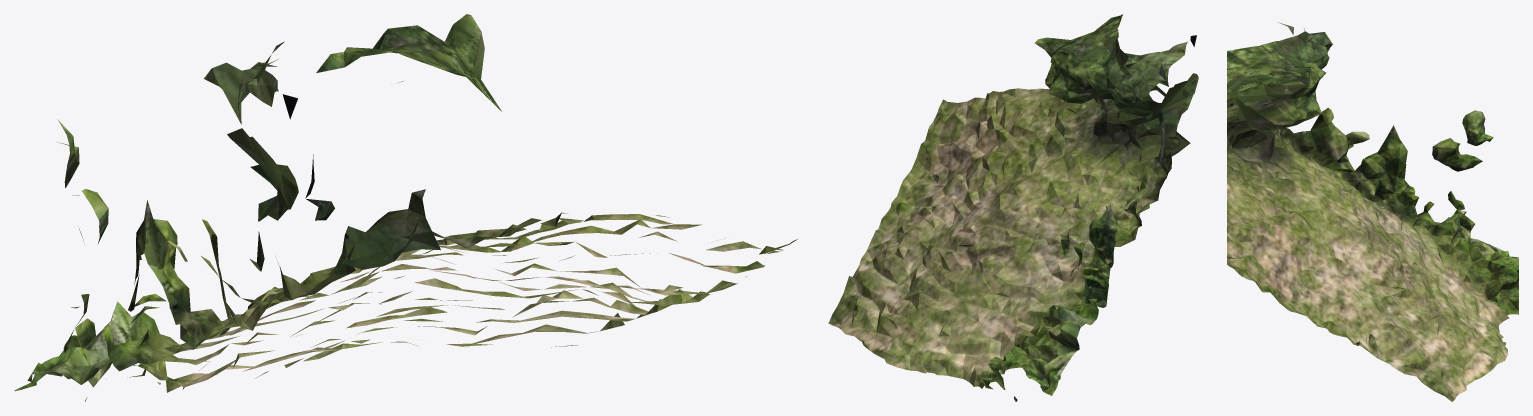
3 renders of one model, left to right at view 1: azimuth 30°, elevation 25°; view 2: azimuth 150°, elevation 25°; view 3: azimuth 270°, elevation 25°, orthographic. The views are drawn at different scales.
Size of the model in its own units: 26.11 by 26.11 by 26.11.
Materials: 4 (4 with a texture image).
